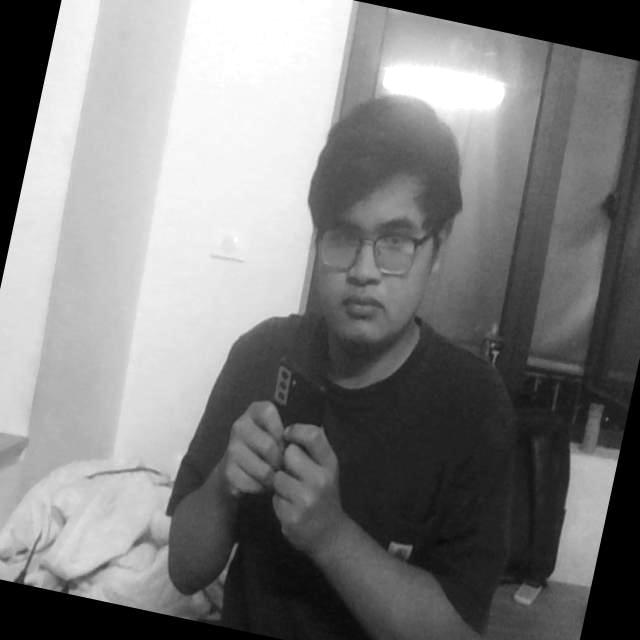phone: (226, 340, 350, 528)
